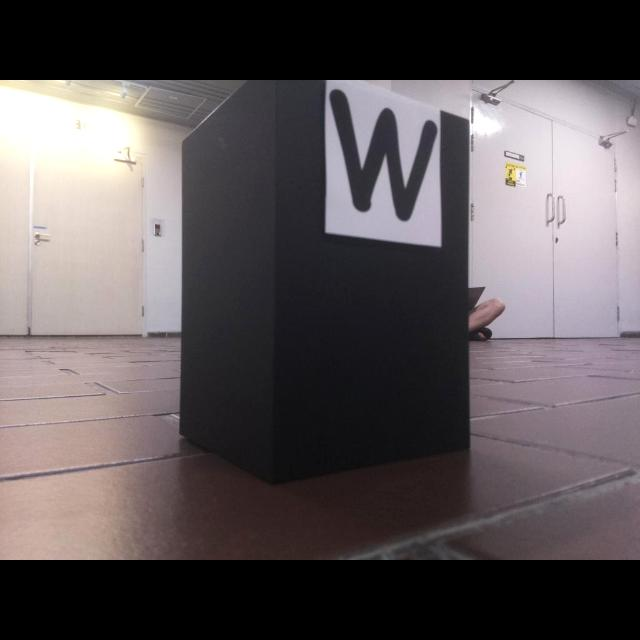W: (327, 86, 440, 225)
